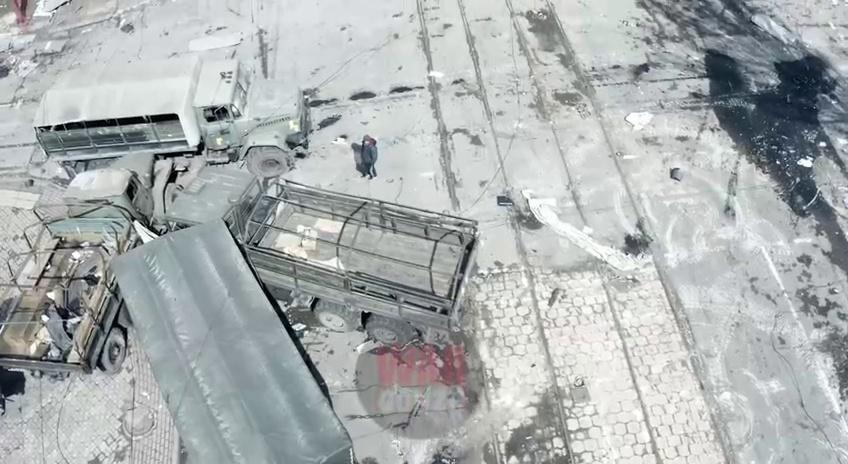person: (360, 134, 378, 180)
truck: (161, 162, 480, 348), (117, 217, 354, 464), (0, 150, 185, 377), (32, 56, 312, 178)
